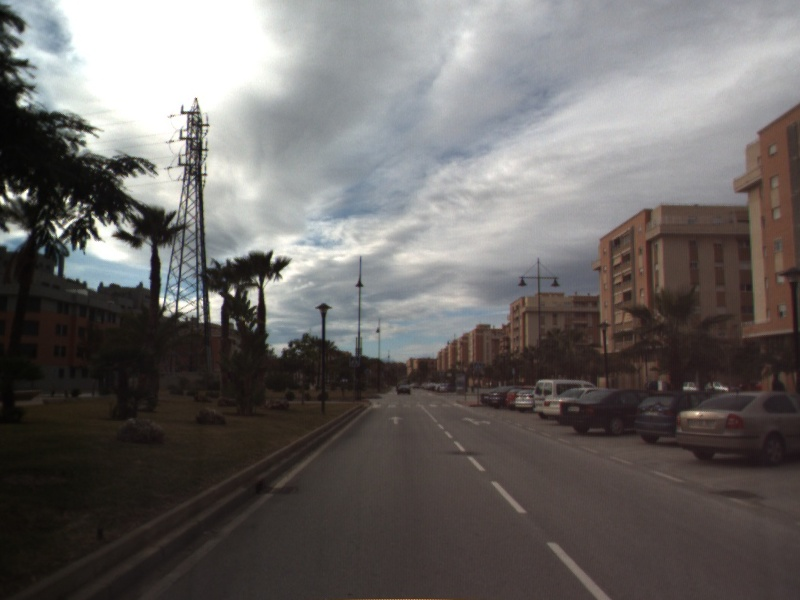STRAIGHT: (386, 414, 406, 426)
STRAIGHT_RIGHT: (459, 415, 493, 427)
